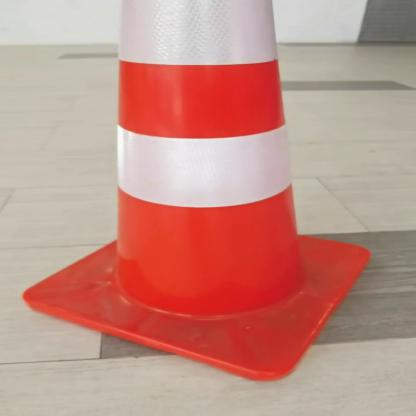cone: (15, 3, 387, 382)
